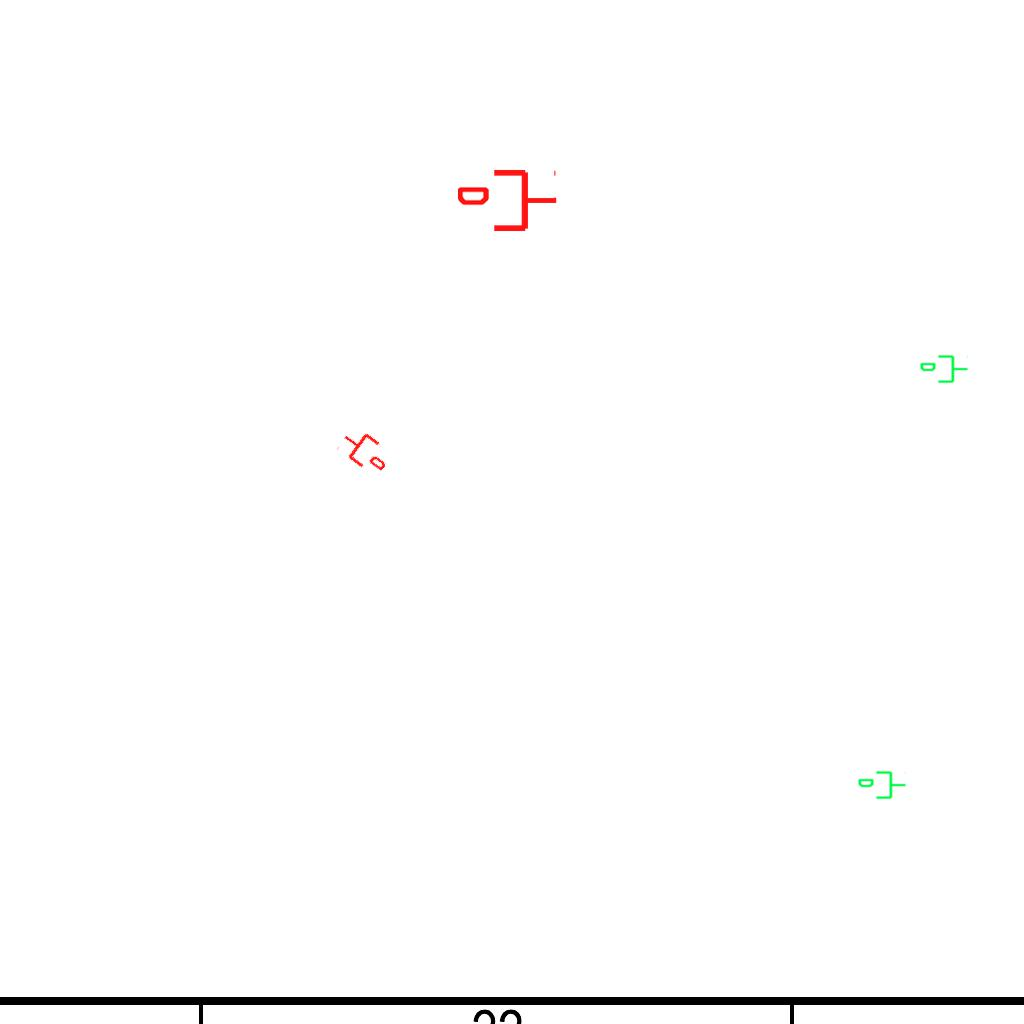Datenanschluss_einfach: (458, 166, 558, 235), (334, 422, 396, 480), (919, 353, 969, 387), (857, 769, 907, 803)
